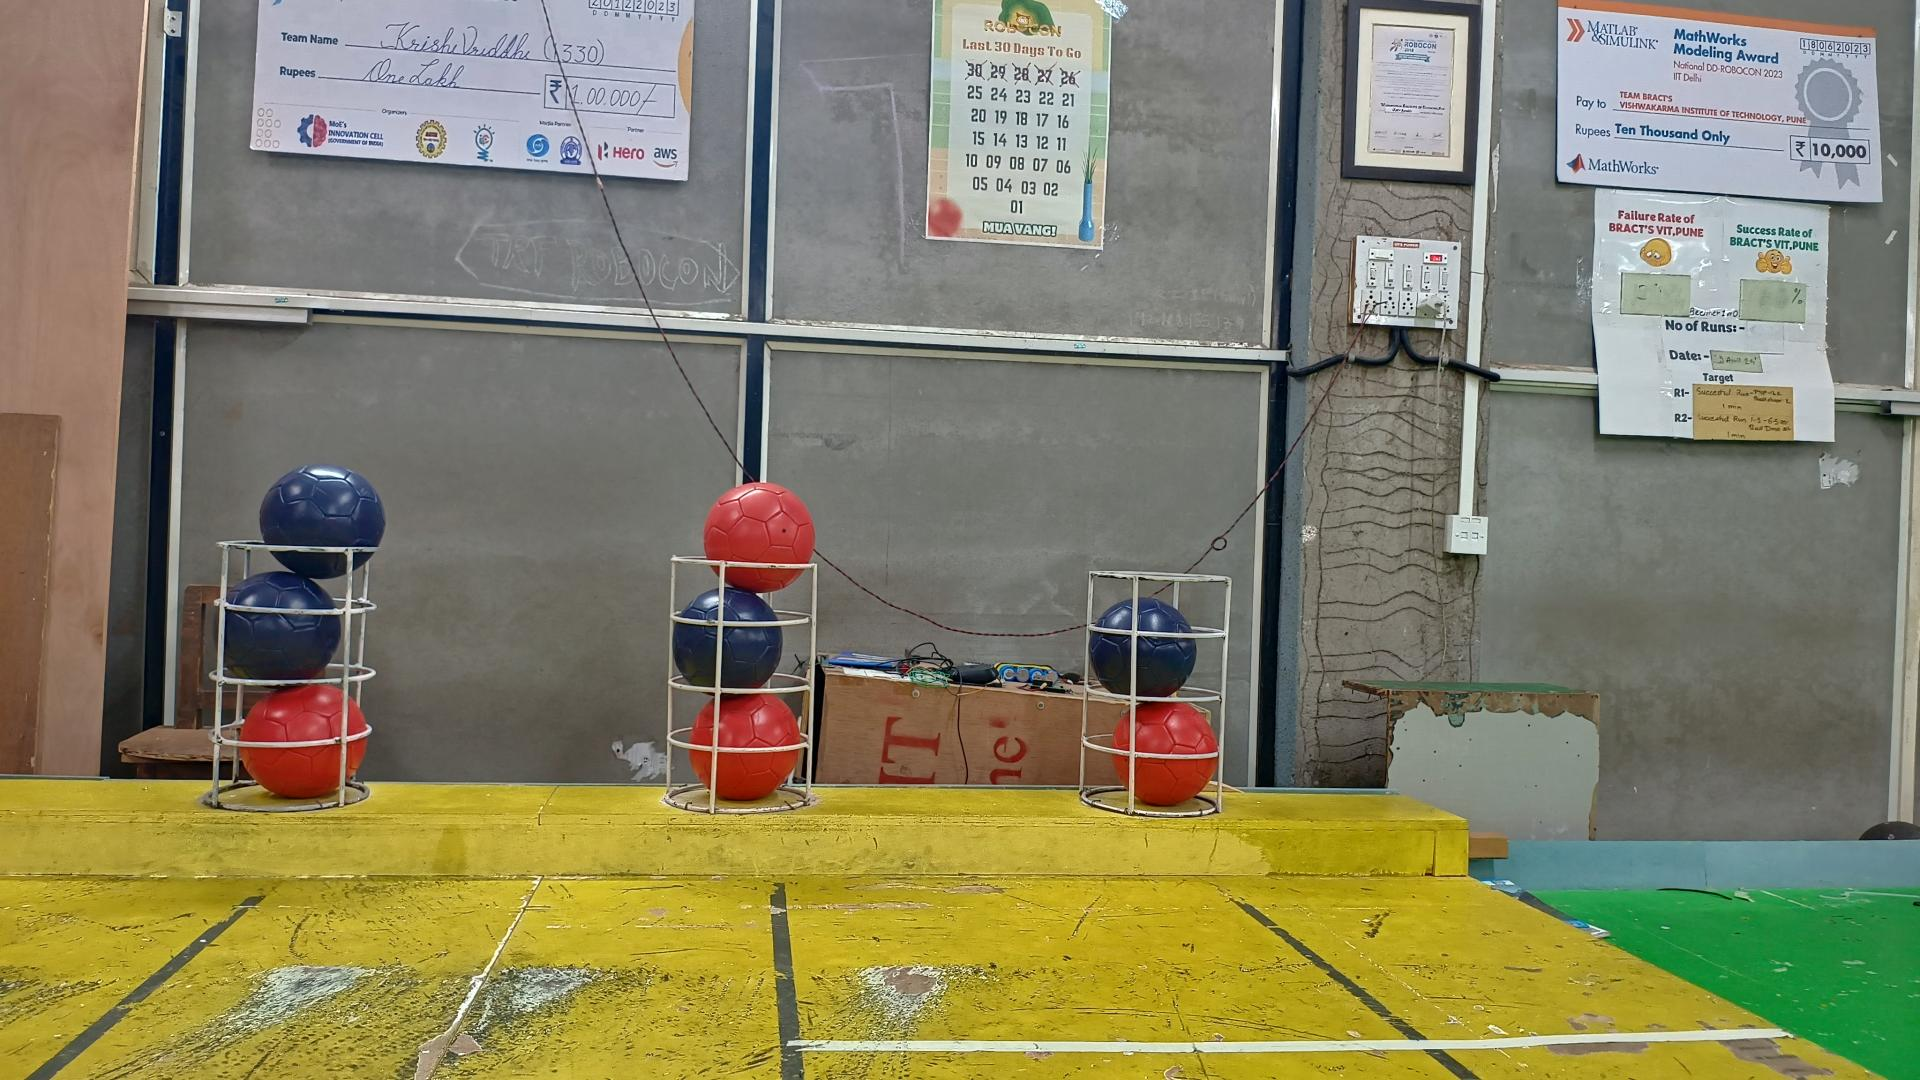dhoka: (258, 465, 386, 578), (211, 572, 339, 682), (671, 584, 785, 690), (1088, 595, 1196, 696)
laale: (240, 684, 368, 802), (688, 692, 800, 802), (703, 481, 811, 593), (1110, 702, 1215, 806)
